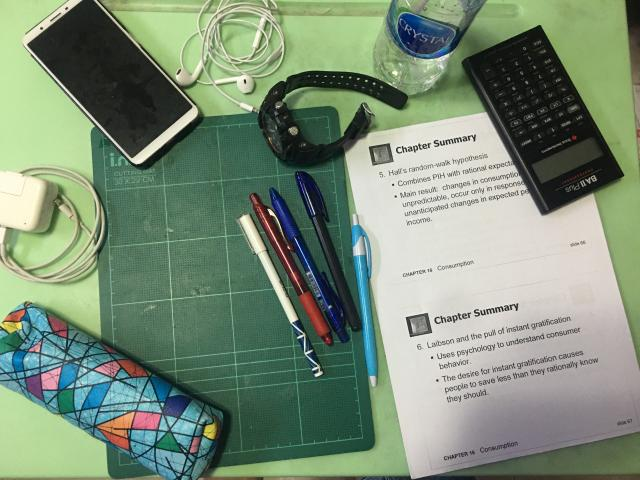Mobile phone: (22, 0, 206, 171)
Pen: (238, 174, 360, 376), (352, 211, 384, 387)
Watch: (256, 72, 398, 168)
bottle: (369, 0, 490, 96)
paper: (345, 98, 640, 480)
wire: (175, 0, 287, 117), (0, 167, 105, 288)
